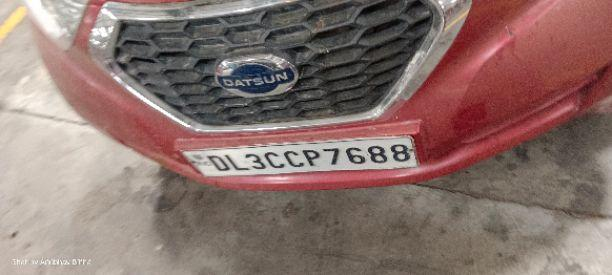license_plate: (21, 0, 610, 192)
